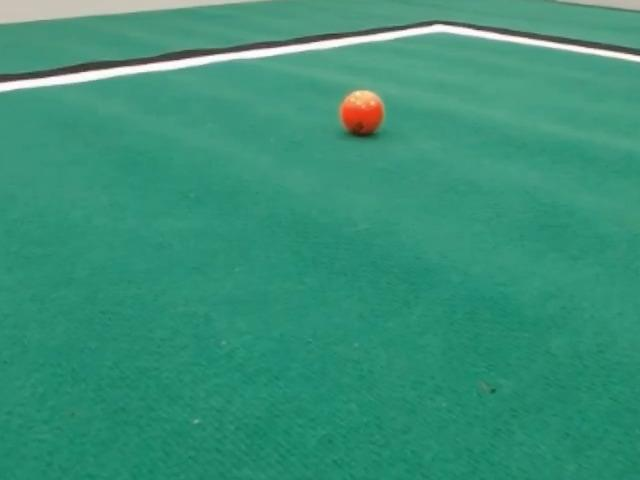Ball: (339, 90, 384, 135)
